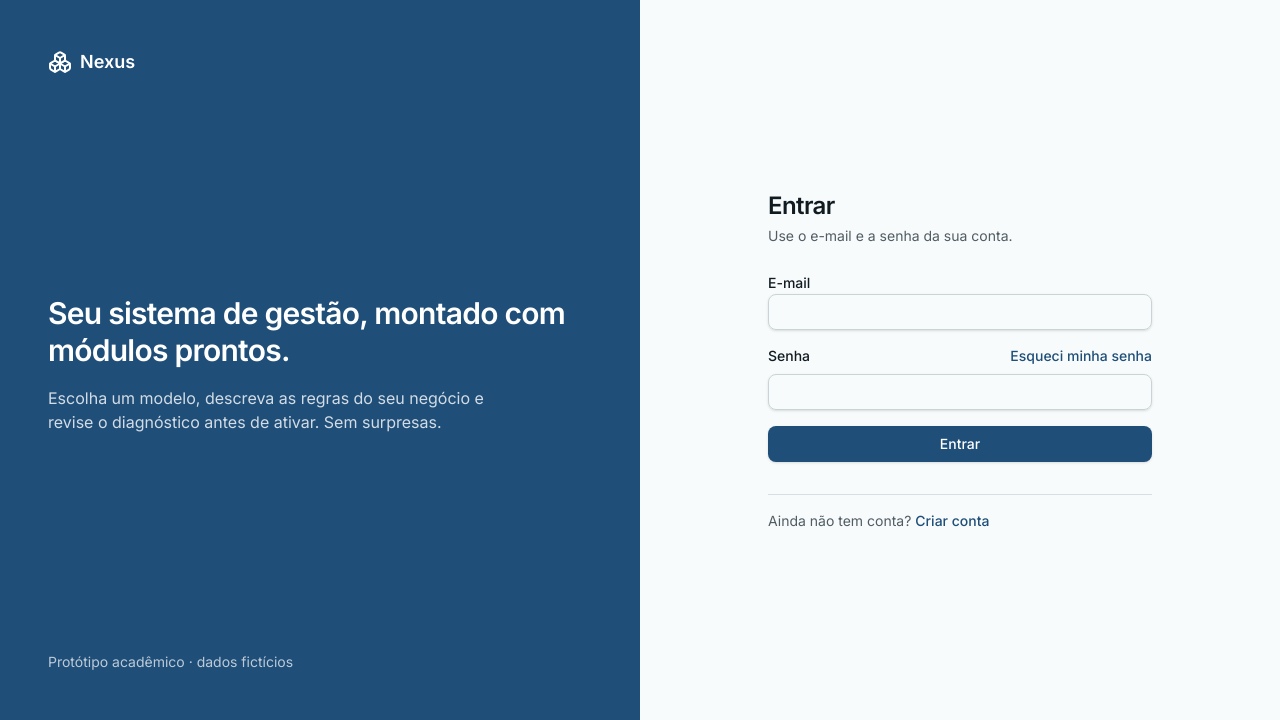
Test: Entrar › cadastro aberto (ADR-009) › falha do serviço no cadastro aparece como indisponível
The width and height of the screenshot is (1280, 720).
Click the button "Criar conta": (952, 520) [915,510,990,530]
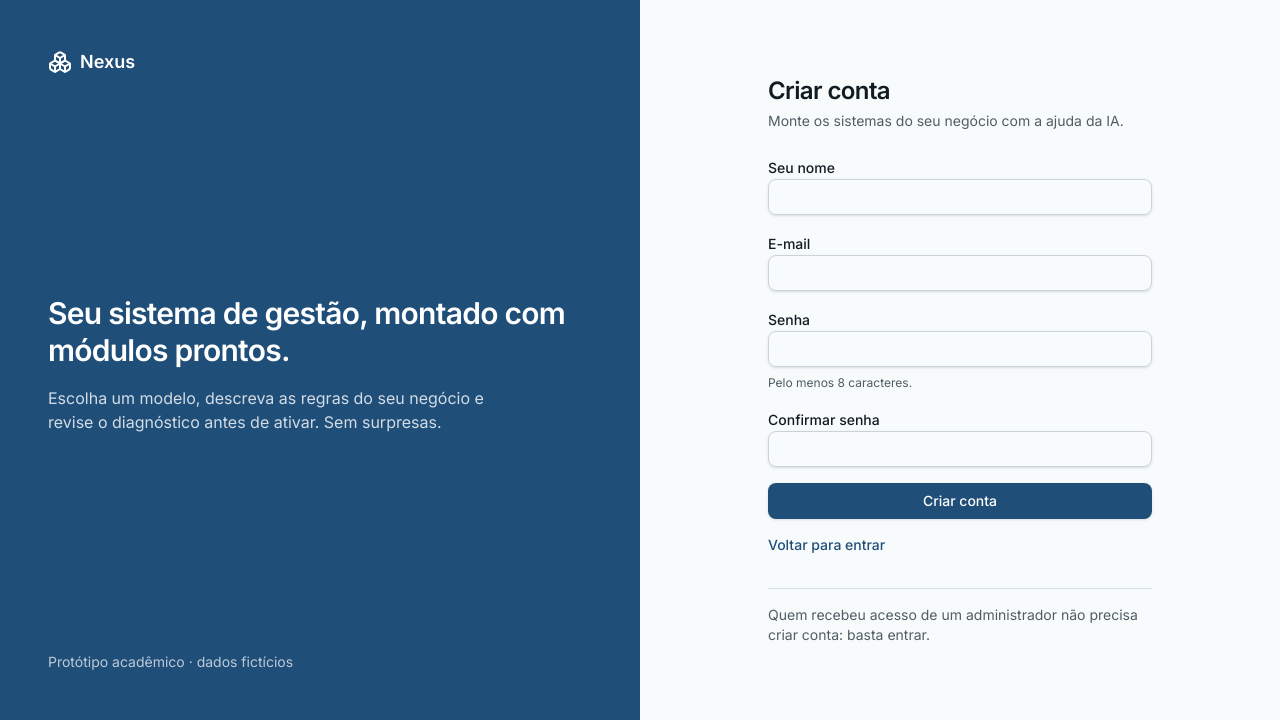
Expected: the heading "Criar conta" is shown, [768,76,890,105]
In the field labelled "Seu nome": (960, 197) [768,179,1152,215], type "Maria Souza"
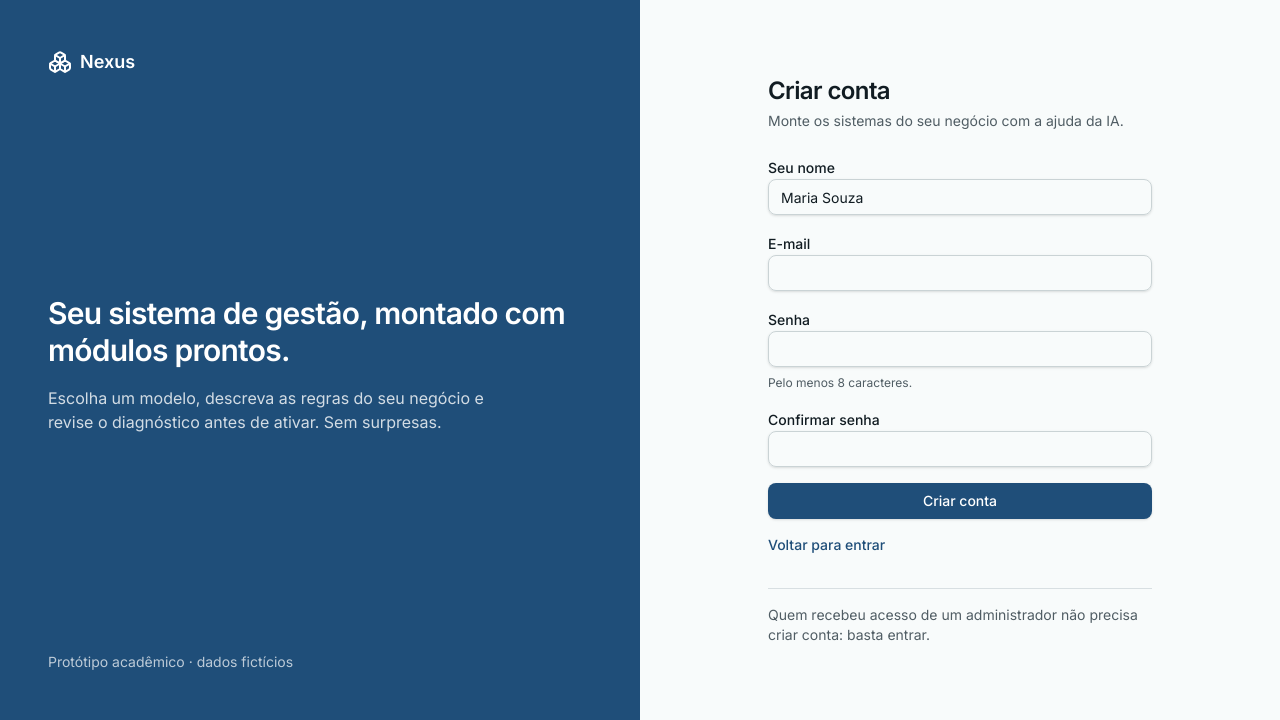
In the field labelled "E-mail": (960, 273) [768,255,1152,291], type "maria@exemplo.com"
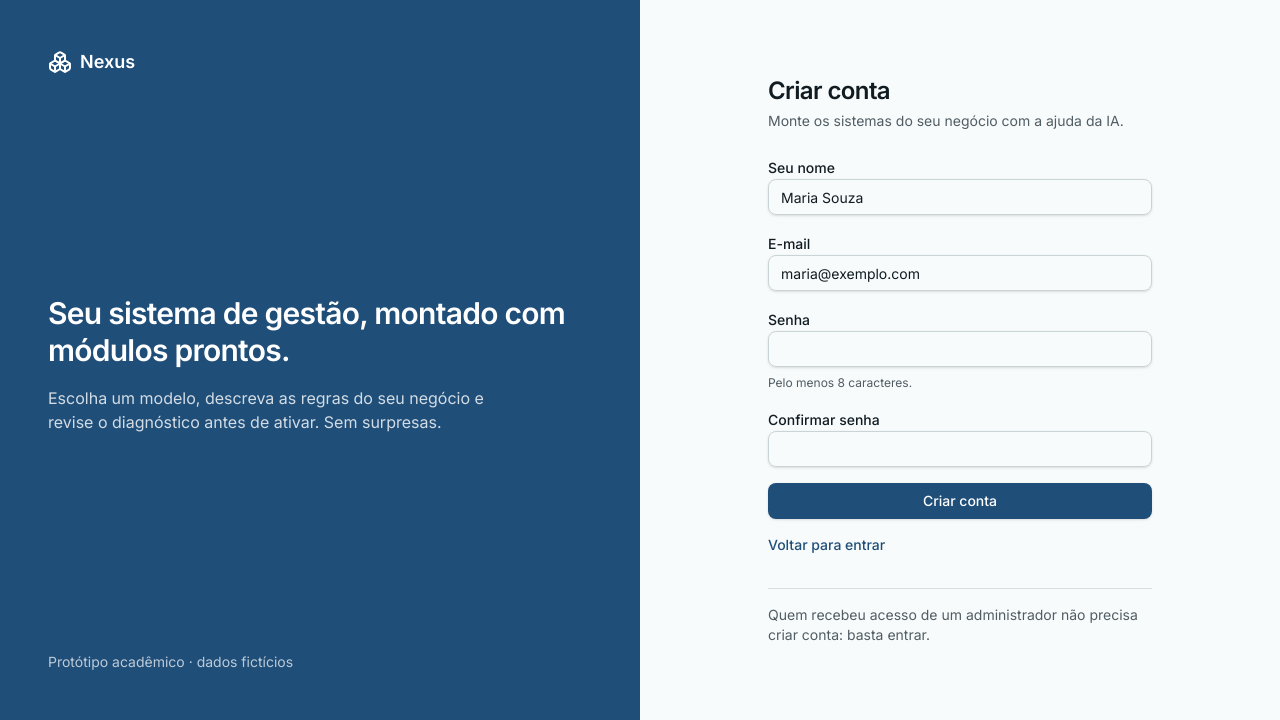
In the password field labelled "Senha": (960, 349) [768,331,1152,367], type "senha-ficticia-1"
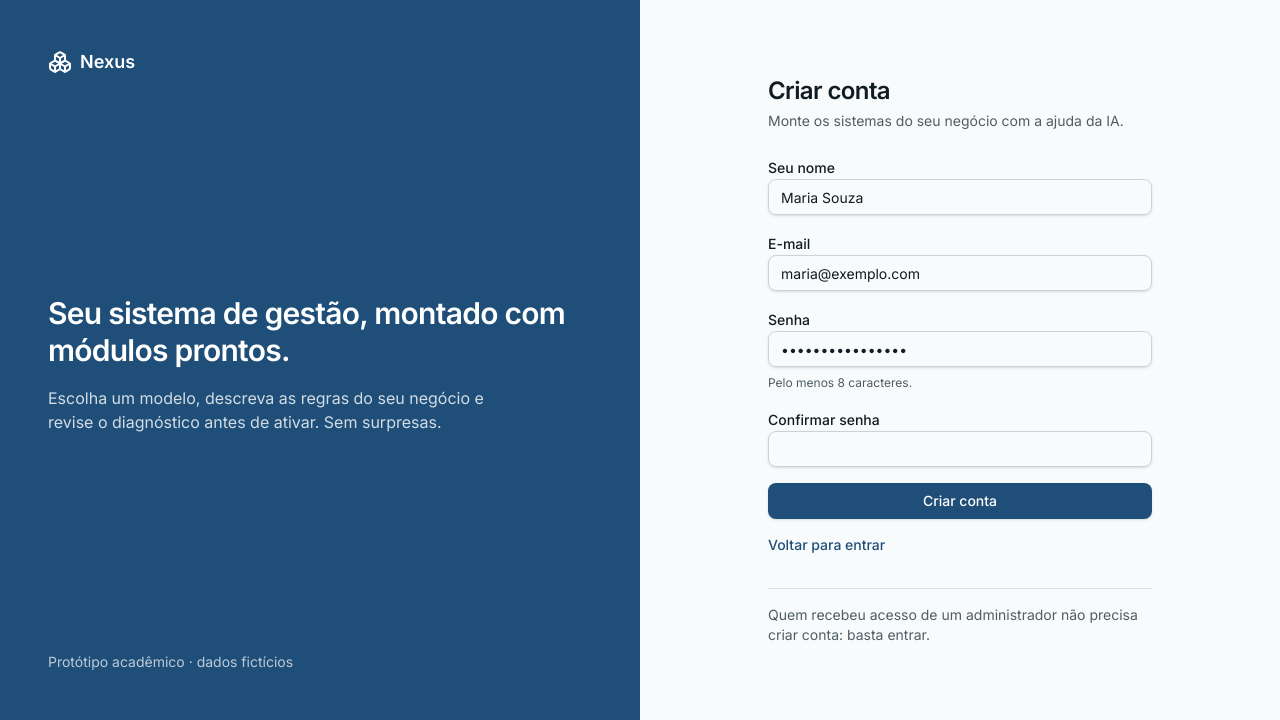
In the password field labelled "Confirmar senha": (960, 449) [768,431,1152,467], type "senha-ficticia-1"
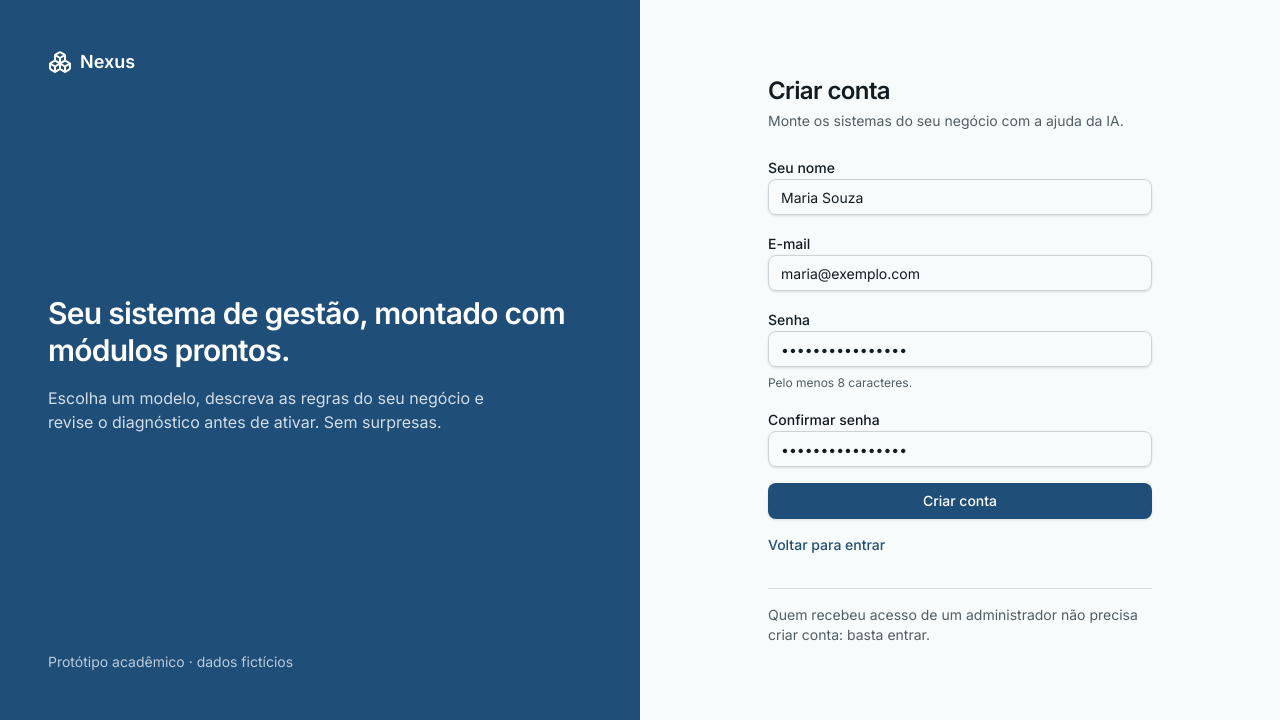
Click the button "Criar conta": (960, 501) [768,483,1152,519]
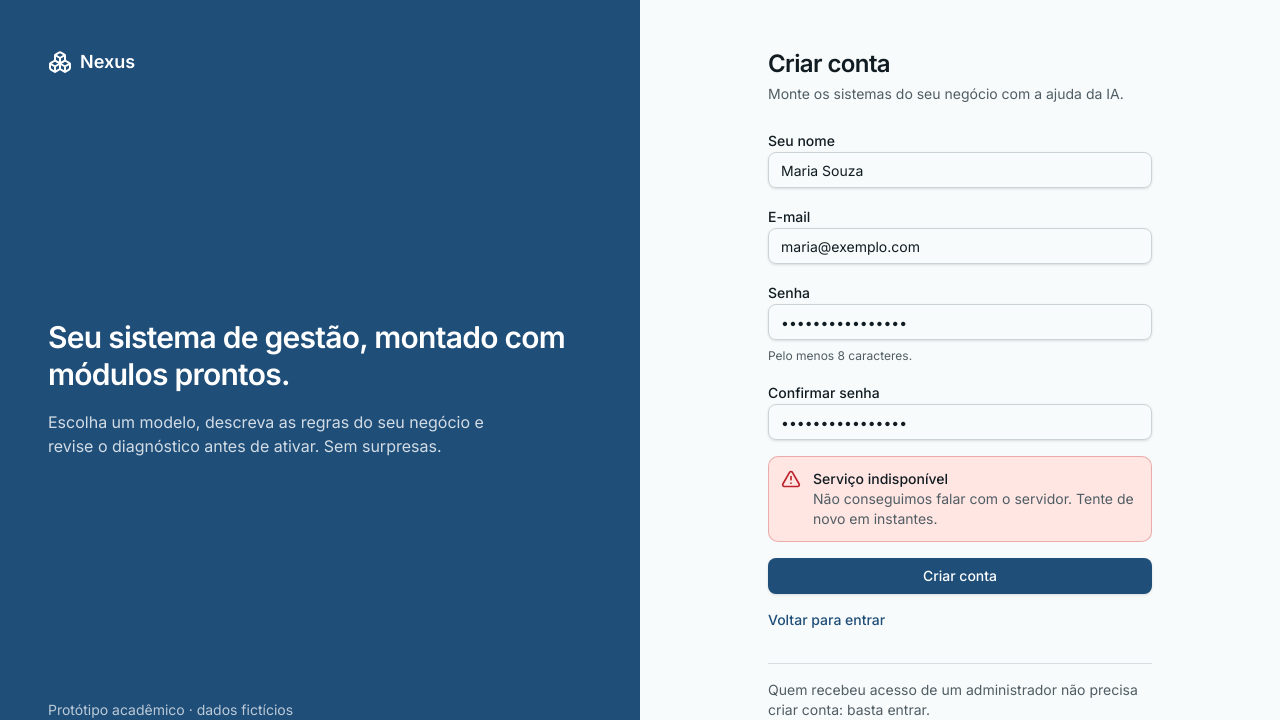
Expected: the text "Serviço indisponível" is shown, [813,470,948,487]
